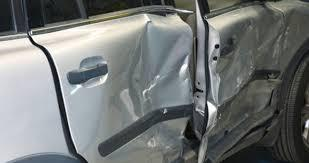doorouter-dent: (53, 13, 205, 162), (204, 3, 292, 144)
